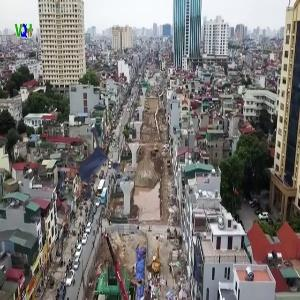drone: (57, 136, 136, 215)
